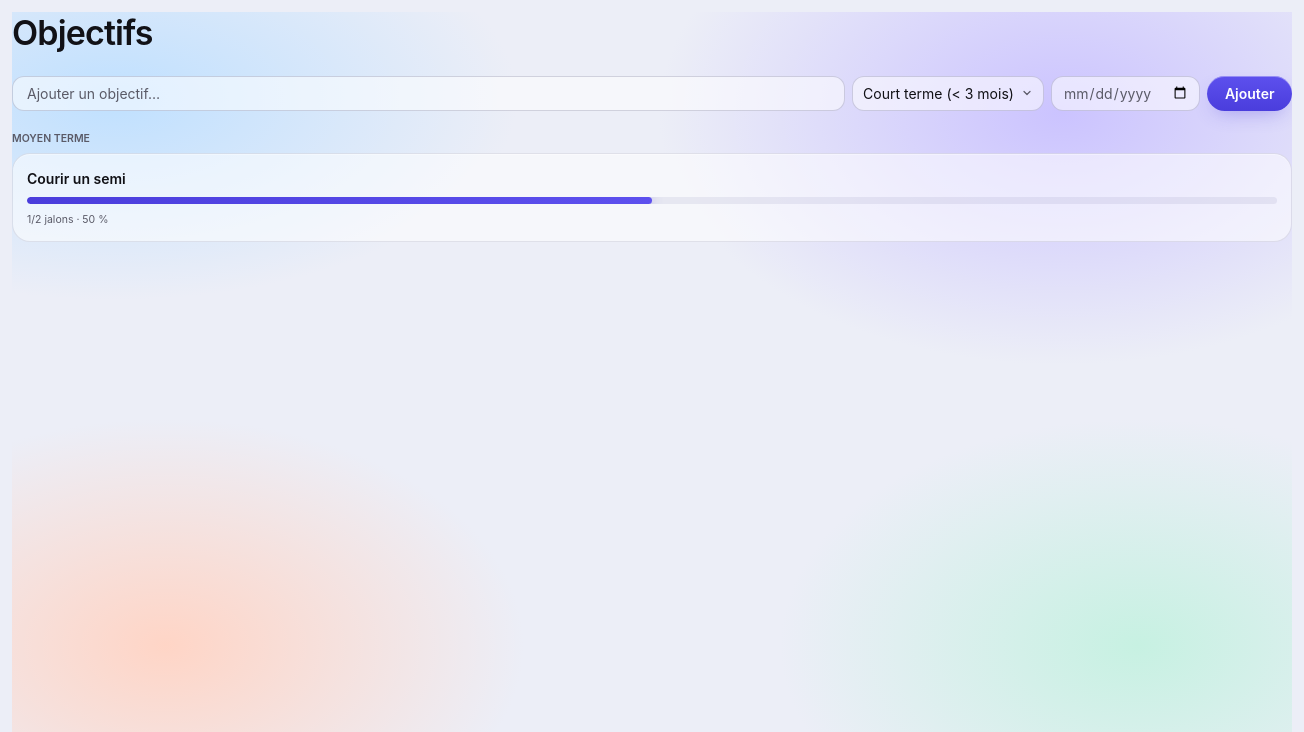
Scenario: GoalsPage › range un objectif atteint à part
Click the button "Courir un semi 1/2 jalons · 50 %".
click(652, 197)  # box [27,168,1277,227]
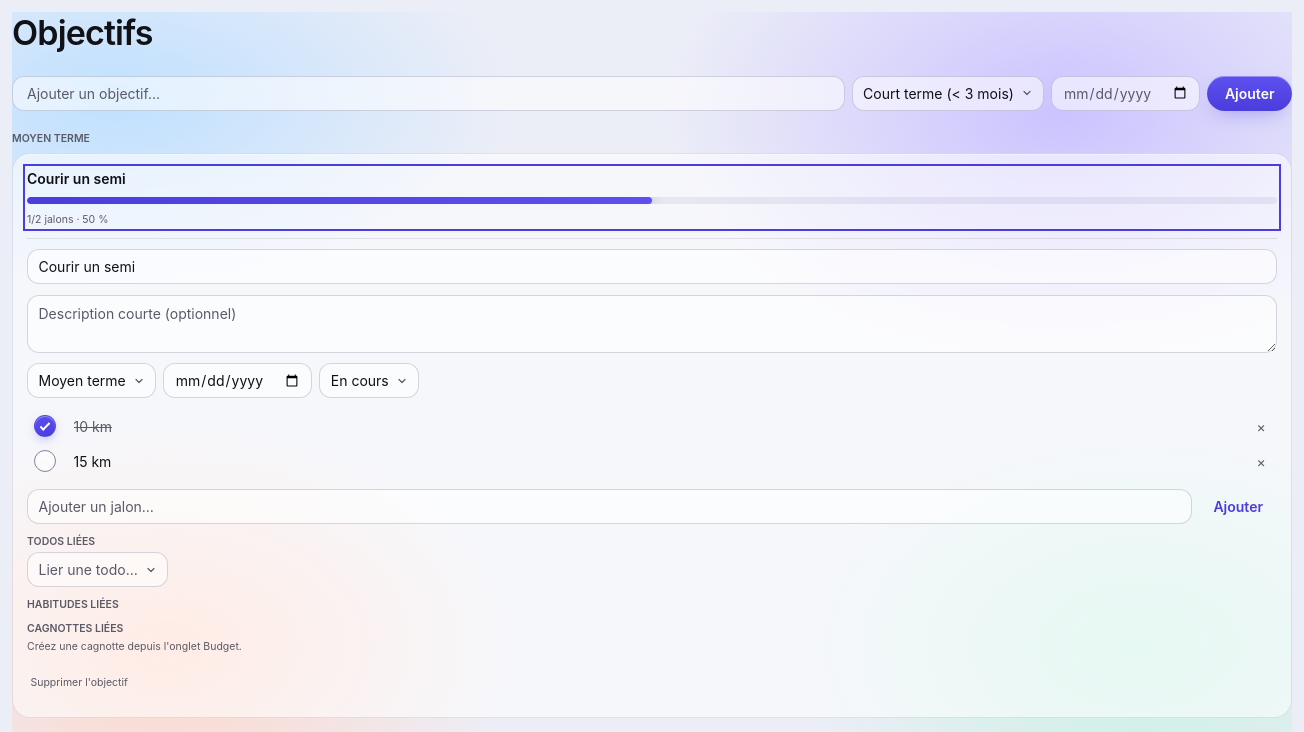
Click the dropdown named "Statut".
click(369, 380)  # box [319,363,419,398]
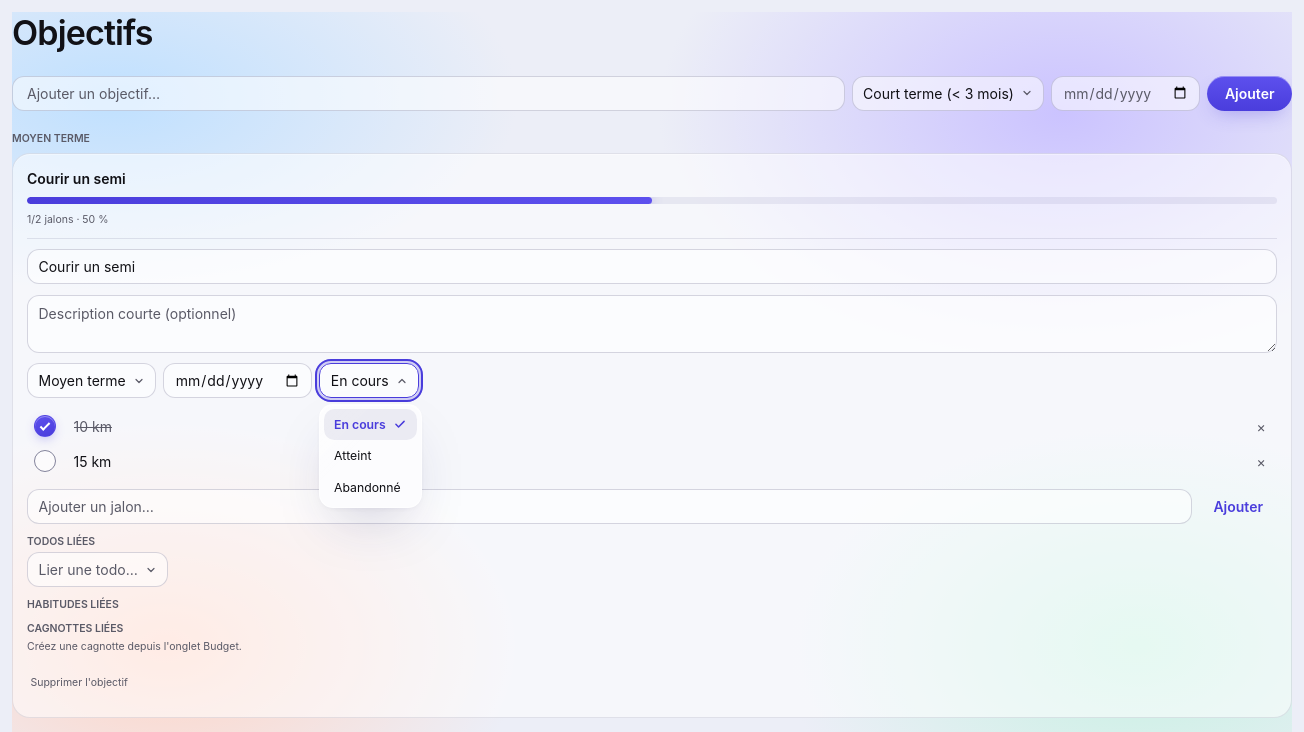
Click the option "Atteint".
click(353, 456)  # box [334,448,372,463]
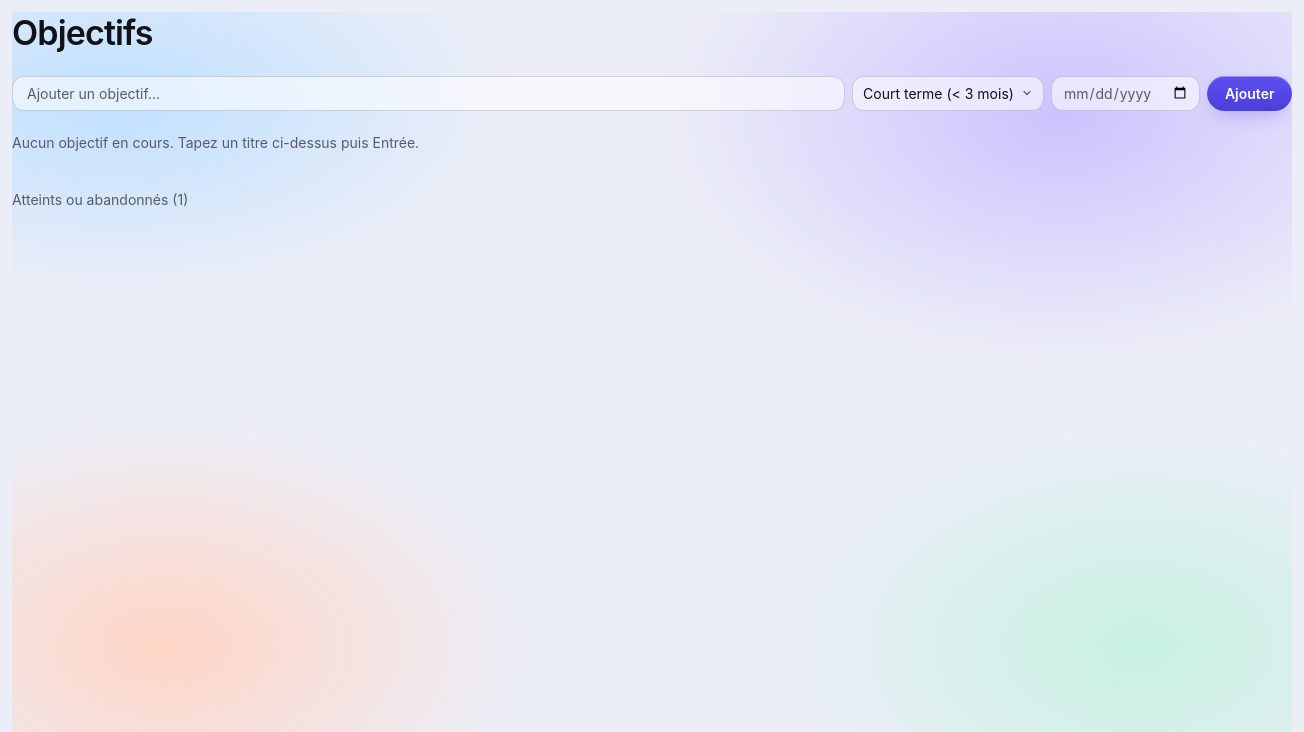
Now the button "Atteints ou abandonnés (1)" is shown, box [12,180,188,219]
Now the text "Aucun objectif en cours" is shown, box [12,134,419,150]
